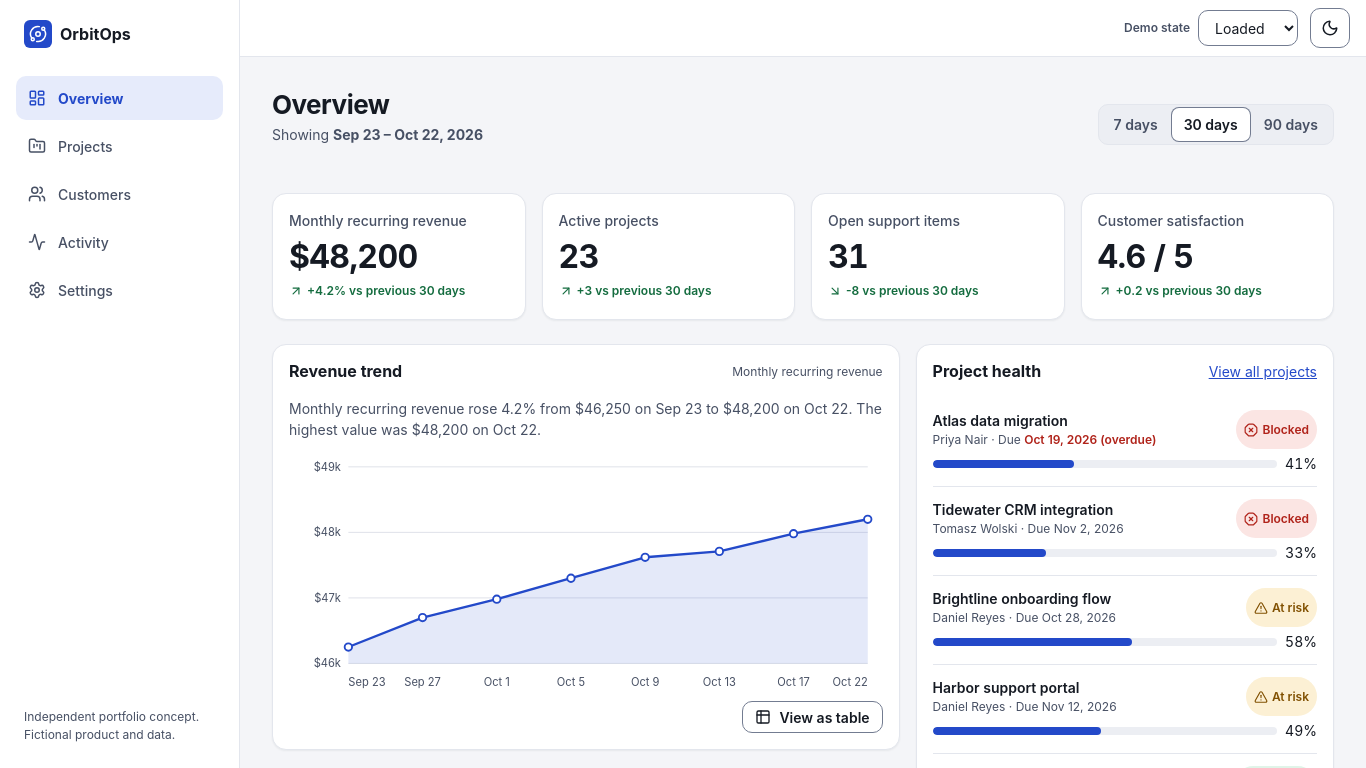
overview date range › offers the chart data as a table
Step 1. Click the button "View as table" → (812, 717), box 742,701 -> 883,733
(page scrolled)
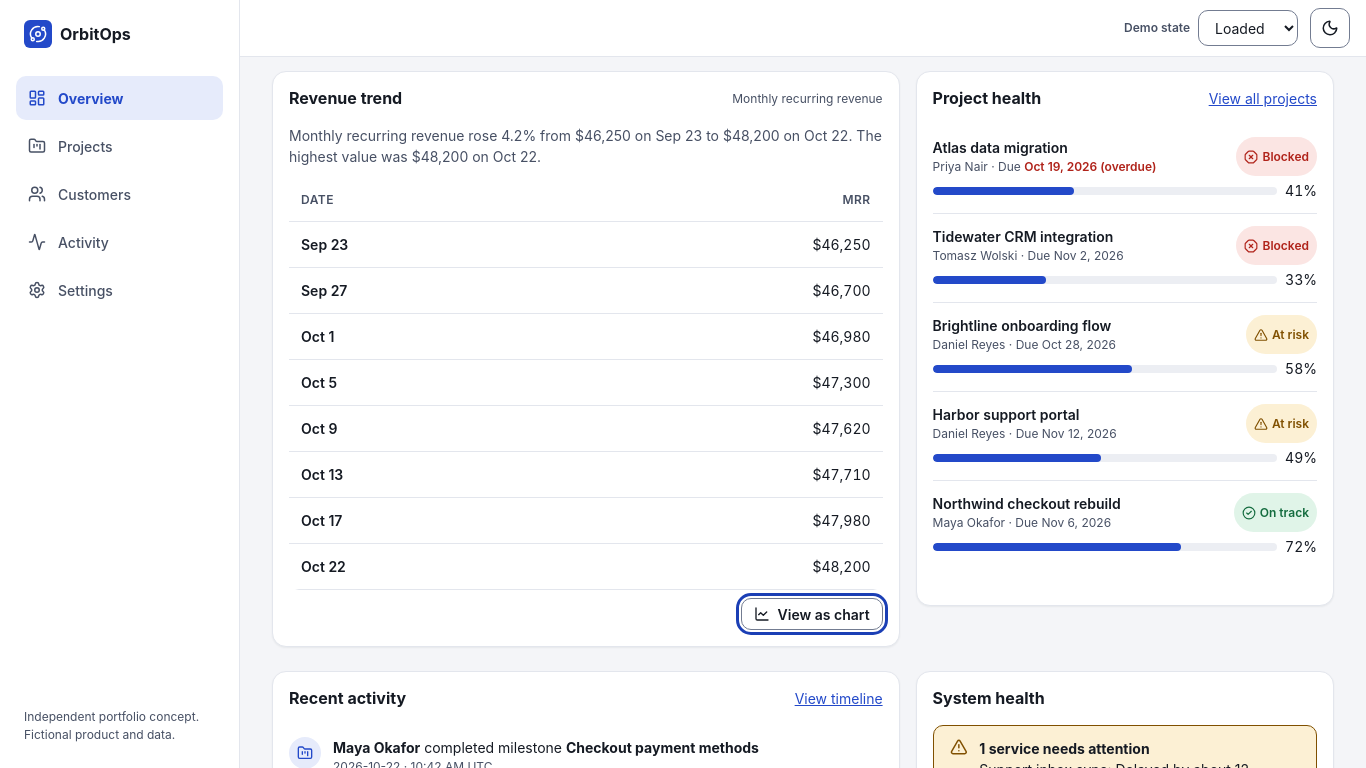
Expected: the table named "Monthly recurring revenue by date" is shown, 289,179 -> 883,590
